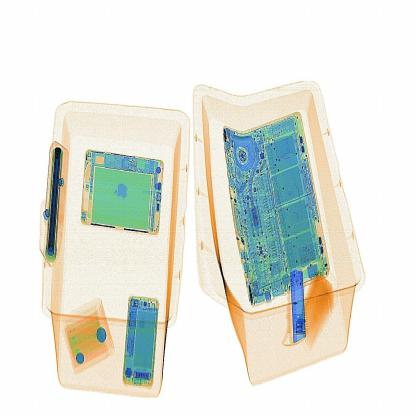pliers: (271, 264, 320, 350)
